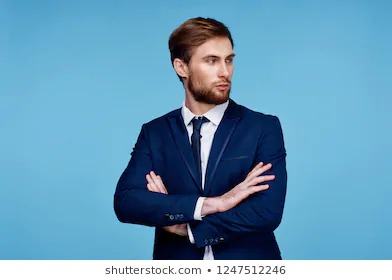F_M_suit jacket: (109, 96, 289, 259)
